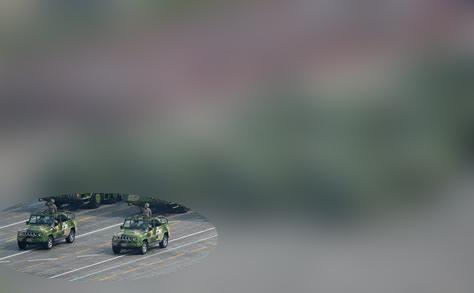armored_car: (15, 210, 78, 250), (111, 215, 171, 256)
